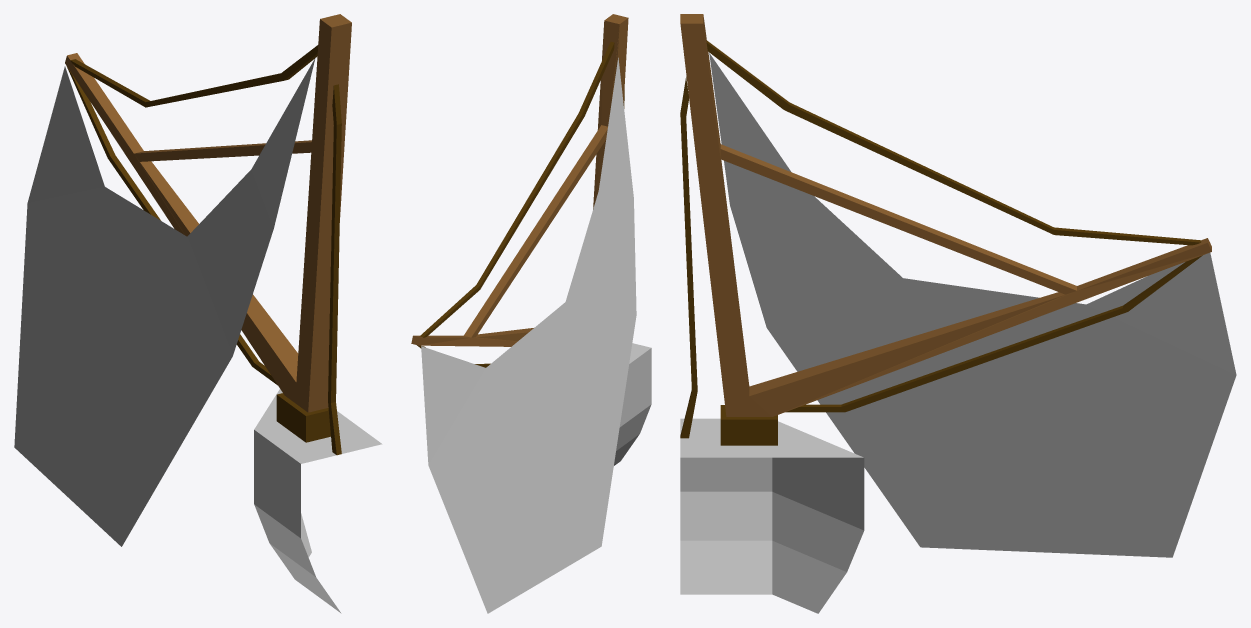
The model's file is model_loc_2164_8.obj.
3 views of the same model, side by side, from view 1: azimuth 30°, elevation 25°; view 2: azimuth 150°, elevation 25°; view 3: azimuth 270°, elevation 25° (orthographic). The views are drawn at different scales.
Visible parts, largest first — view 1: 1862; view 2: 1862; view 3: 1862.
Boxes of the visible parts, left/top/right/bottom form: 1862: left=14, top=14, right=382, bottom=613; 1862: left=411, top=14, right=651, bottom=613; 1862: left=680, top=14, right=1236, bottom=613.
Bounding box in the file's own units: 217 × 884 × 774.
